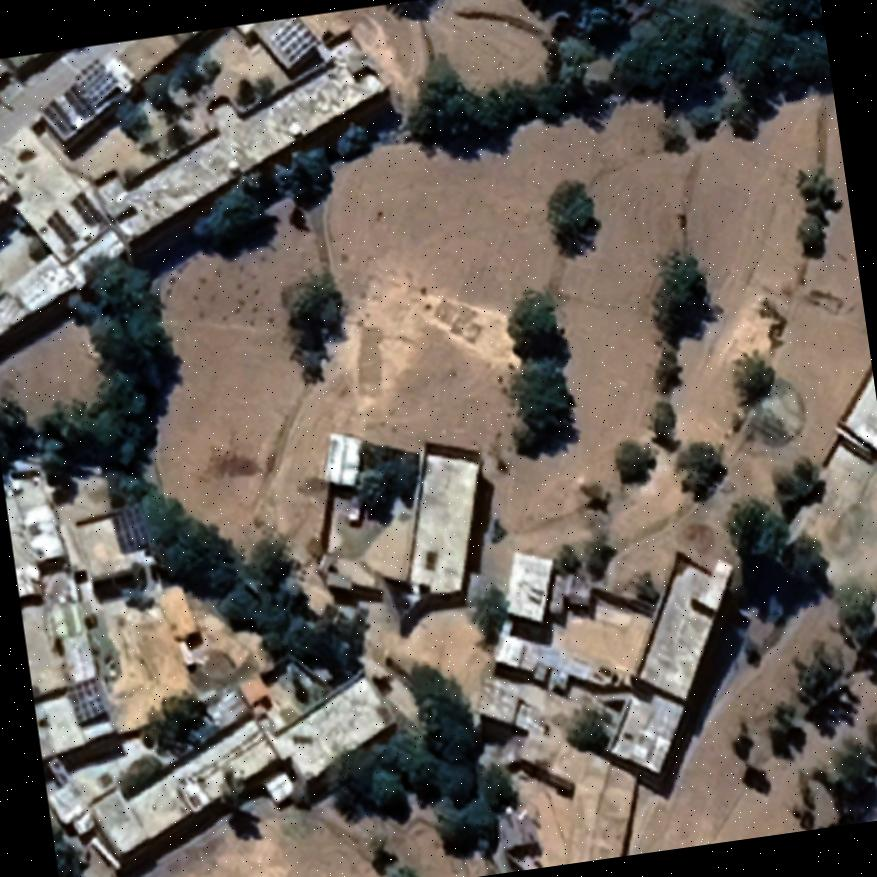Solarpanel: (262, 17, 322, 67), (108, 497, 156, 556), (70, 54, 122, 104), (64, 675, 108, 724), (38, 96, 77, 138), (60, 81, 97, 121), (44, 206, 80, 247), (69, 187, 104, 228)
